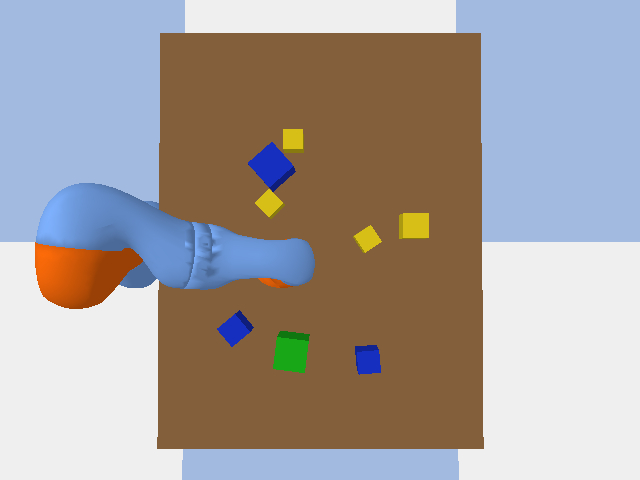blue_obj: (248, 142, 295, 191), (217, 310, 253, 346), (355, 345, 380, 374)
green_obj: (273, 331, 309, 372)
yellow_obj: (255, 189, 284, 218), (353, 225, 381, 252), (399, 213, 428, 238), (283, 129, 303, 152)
